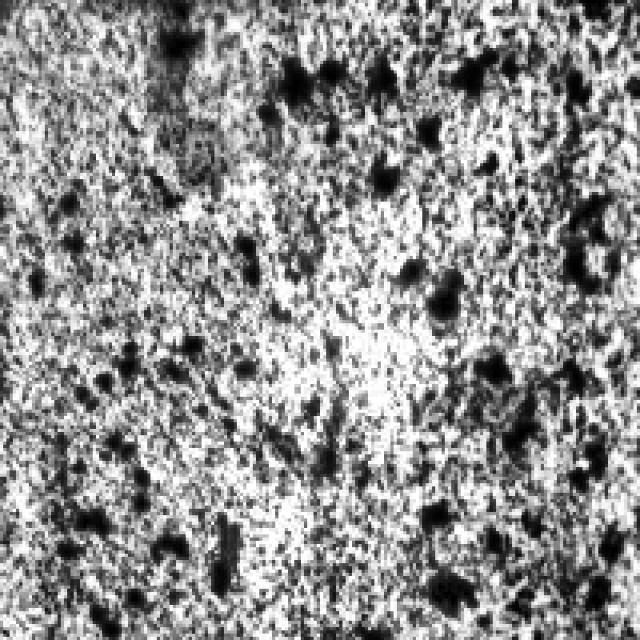Rolled_in_Scale: (16, 51, 528, 637)
